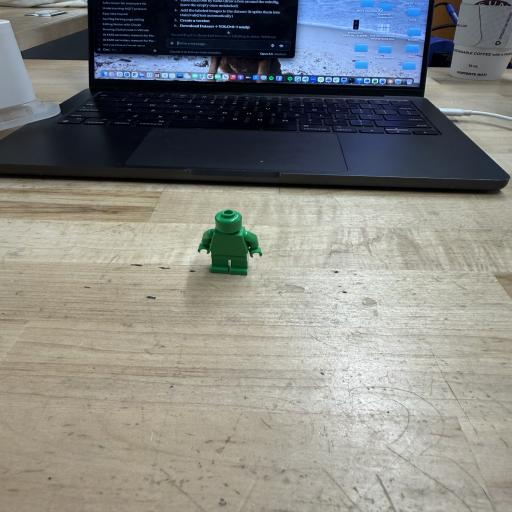green-minifig: (198, 209, 262, 275)
